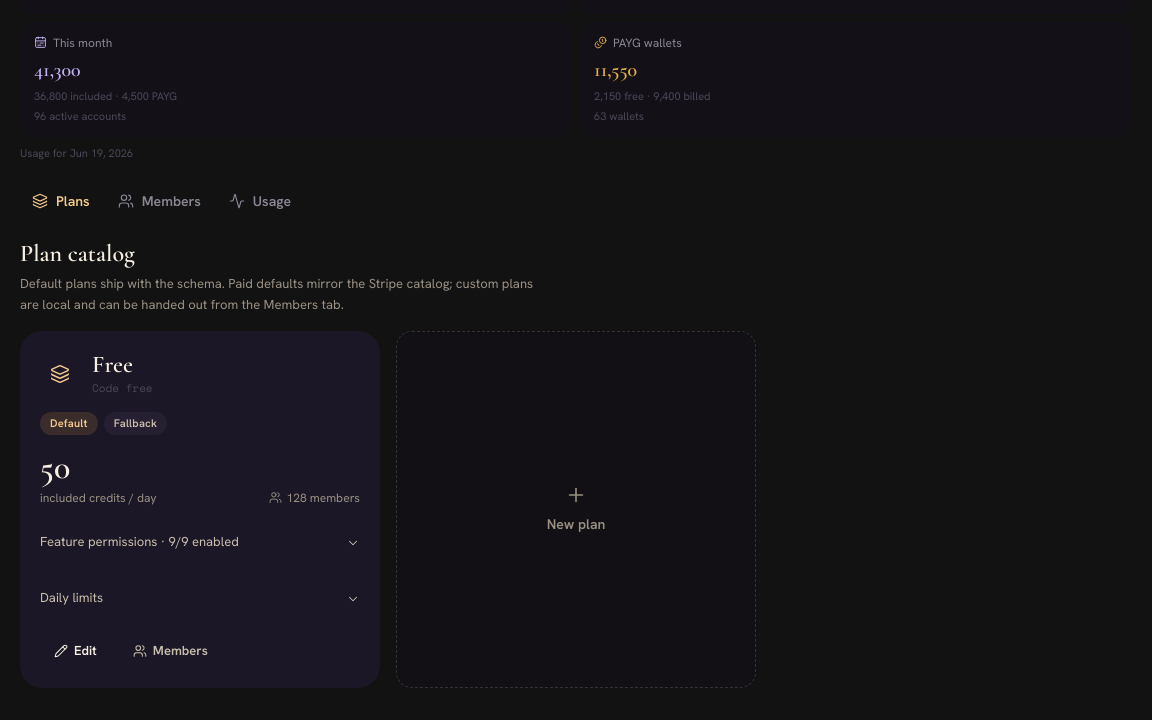
Test: AdminMembershipPage › shows every stored Free permission in the root editor from the server catalog
The image size is (1152, 720).
(page scrolled)
Expected: the heading "Feature permissions · 9/9 enabled" is shown, [40, 533, 360, 550]
Click the button "Edit" at (75, 651), box [40, 635, 111, 668]
(page scrolled)
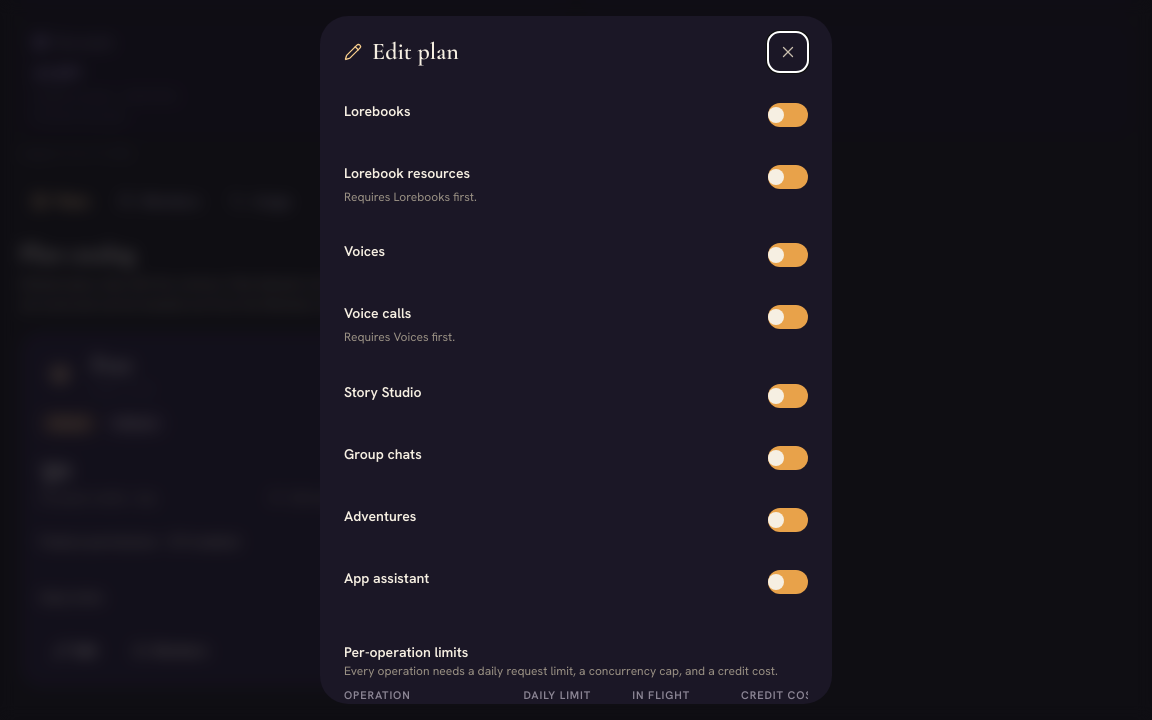
Expected: the switch named "Story Studio" in the row of "Story Studio" is checked, [768, 384, 808, 408]
